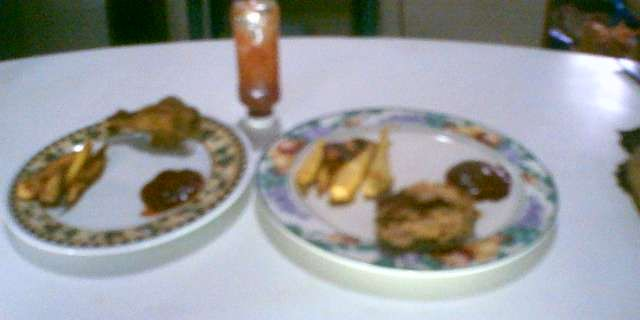chicken: (375, 177, 482, 255), (104, 91, 206, 151)
ketchup_bottle: (228, 1, 286, 132)
ketchup_portion: (442, 156, 515, 203), (133, 167, 206, 213)
potatoe_fries: (294, 123, 397, 206), (14, 136, 108, 211)
